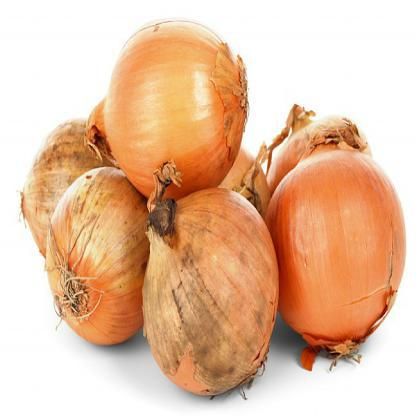onion: (134, 183, 288, 414), (262, 146, 406, 366), (120, 22, 248, 189), (42, 169, 151, 357)
